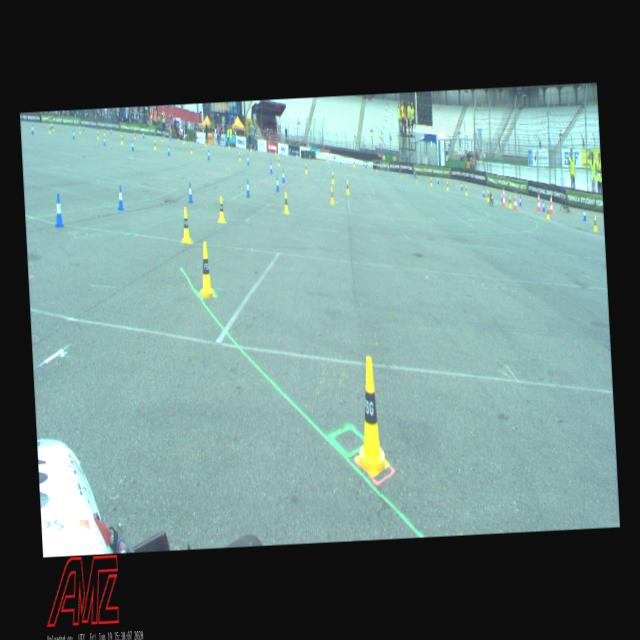blue_cone: (53, 194, 64, 228), (117, 186, 124, 210), (188, 182, 192, 202), (246, 180, 250, 198), (276, 175, 280, 192), (281, 168, 285, 184), (582, 207, 586, 221), (542, 199, 546, 212), (269, 162, 273, 174), (167, 144, 171, 156), (72, 128, 75, 140), (501, 191, 504, 202), (519, 196, 522, 206), (131, 140, 134, 150), (207, 148, 210, 158), (31, 125, 34, 134), (339, 156, 342, 165), (247, 154, 249, 164), (482, 188, 484, 198), (364, 160, 366, 170), (460, 182, 462, 190), (437, 175, 439, 182), (414, 170, 416, 177), (142, 132, 144, 138), (110, 128, 112, 134), (104, 136, 105, 145), (83, 124, 84, 130)
large_orange_cone: (548, 193, 554, 215), (536, 192, 542, 212), (512, 190, 518, 210), (502, 187, 506, 205)
yellow_cone: (353, 352, 387, 474), (196, 240, 214, 298), (180, 206, 191, 245), (217, 196, 225, 223), (283, 192, 289, 214), (329, 188, 334, 205), (593, 215, 598, 232), (545, 206, 550, 219), (346, 180, 350, 194), (304, 163, 308, 174), (331, 170, 334, 184), (120, 135, 124, 144), (508, 196, 511, 208), (486, 190, 489, 200), (154, 140, 156, 150), (446, 180, 448, 190), (278, 156, 280, 166), (465, 186, 467, 196), (190, 144, 192, 154), (97, 131, 99, 140), (430, 177, 432, 186), (239, 152, 241, 161), (78, 126, 80, 134), (416, 174, 418, 182), (353, 159, 355, 167), (134, 132, 136, 139), (52, 124, 54, 130), (162, 136, 164, 142), (250, 145, 252, 151), (204, 140, 206, 146), (104, 128, 105, 135), (183, 138, 184, 144), (49, 126, 50, 132), (327, 156, 328, 162), (400, 170, 400, 177)
